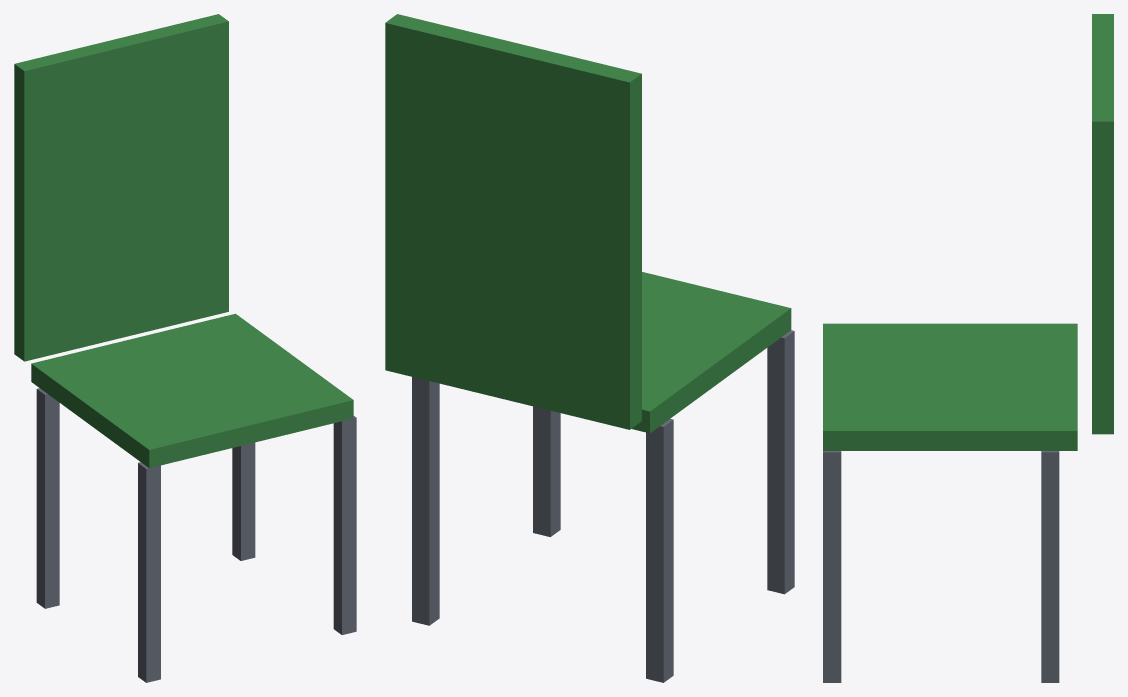
The model's file is lawnchair.glb.
The picture shows the model from 3 angles, left to right: view 1: azimuth 30°, elevation 25°; view 2: azimuth 150°, elevation 25°; view 3: azimuth 270°, elevation 25°; orthographic projection. The views are drawn at different scales.
Visible parts, largest first — view 1: lawnchair; view 2: lawnchair; view 3: lawnchair.
Boxes of the visible parts, left/top/right/bottom form: lawnchair: left=14, top=14, right=356, bottom=682; lawnchair: left=385, top=14, right=794, bottom=682; lawnchair: left=823, top=14, right=1113, bottom=682.
Size of the model in its own units: 0.36 by 0.85 by 0.4.
Materials: 1 (1 with a texture image).
